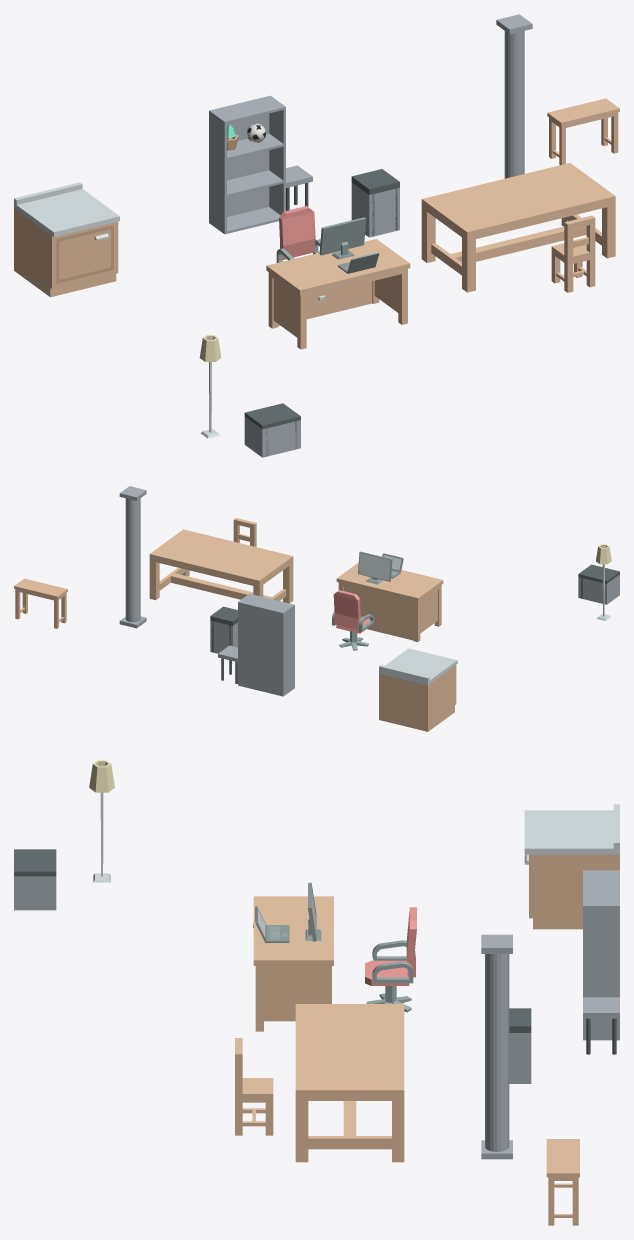
The picture shows the model from 3 angles, top to bottom: view 1: azimuth 30°, elevation 25°; view 2: azimuth 150°, elevation 25°; view 3: azimuth 270°, elevation 25°; orthographic projection. The views are drawn at different scales.
Visible parts, largest first — view 1: table_green__table(Clone), desk_blue__desk(Clone), cabinet_blue__kitchenCabinet(Clone), column_cyan__column_cyan shaft, cabinet_blue__door, chair_cyan__chair(Clone), shelf_orange__shelf_orange back, sidetable_brown__sideTable(Clone), shelf_orange__shelf_orange side_l, bin_gray__bin_gray shell, deskchair_black__chair, crate_red__crate_red shell (+9 smaller); view 2: table_green__table(Clone), cabinet_blue__kitchenCabinet(Clone), desk_blue__desk(Clone), shelf_orange__shelf_orange back, column_cyan__column_cyan shaft, sidetable_brown__sideTable(Clone), deskchair_black__chair, shelf_orange__shelf_orange side_l, monitor_gray__computerScreen(Clone), crate_red__crate_red shell, bin_gray__bin_gray shell, shelf_orange__shelf_orange board3 (+4 smaller); view 3: table_green__table(Clone), cabinet_blue__kitchenCabinet(Clone), desk_blue__desk(Clone), column_cyan__column_cyan shaft, shelf_orange__shelf_orange side_r, sidetable_brown__sideTable(Clone), deskchair_black__chair, chair_cyan__chair(Clone), crate_red__crate_red shell, crate_red__crate_red lid, shelf_orange__shelf_orange board3, bin_gray__bin_gray shell (+4 smaller).
Boxes of the visible parts, x1,y1,x2,y2 form: table_green__table(Clone): (421,163,615,292); desk_blue__desk(Clone): (266,239,410,349); cabinet_blue__kitchenCabinet(Clone): (14,182,119,297); column_cyan__column_cyan shaft: (504,31,524,178); cabinet_blue__door: (56,225,113,283); chair_cyan__chair(Clone): (551,215,595,292); shelf_orange__shelf_orange back: (212,96,269,216); sidetable_brown__sideTable(Clone): (547,98,619,165); shelf_orange__shelf_orange side_l: (209,110,226,234); bin_gray__bin_gray shell: (351,182,399,237); deskchair_black__chair: (276,206,320,262); crate_red__crate_red shell: (244,417,300,457); table_green__table(Clone): (149,529,293,603); cabinet_blue__kitchenCabinet(Clone): (379,648,457,731); desk_blue__desk(Clone): (336,562,443,642); shelf_orange__shelf_orange back: (239,602,281,695); column_cyan__column_cyan shaft: (125,498,140,622); sidetable_brown__sideTable(Clone): (14,578,67,628); deskchair_black__chair: (332,590,374,633); shelf_orange__shelf_orange side_l: (281,604,294,696); monitor_gray__computerScreen(Clone): (358,551,392,584); crate_red__crate_red shell: (578,574,619,604); bin_gray__bin_gray shell: (210,620,237,653); shelf_orange__shelf_orange board3: (241,594,292,612); table_green__table(Clone): (295,1004,404,1162); cabinet_blue__kitchenCabinet(Clone): (524,804,619,929); desk_blue__desk(Clone): (253,896,333,1031); column_cyan__column_cyan shaft: (485,954,509,1151); shelf_orange__shelf_orange side_r: (583,904,619,1040); sidetable_brown__sideTable(Clone): (546,1139,579,1225); deskchair_black__chair: (365,907,416,985); chair_cyan__chair(Clone): (235,1038,273,1135); crate_red__crate_red shell: (14,876,56,910); crate_red__crate_red lid: (14,849,56,876); shelf_orange__shelf_orange board3: (583,871,617,904); bin_gray__bin_gray shell: (509,1033,531,1083).
Size of the model in its own units: 7.86 by 2.2 by 5.72.
